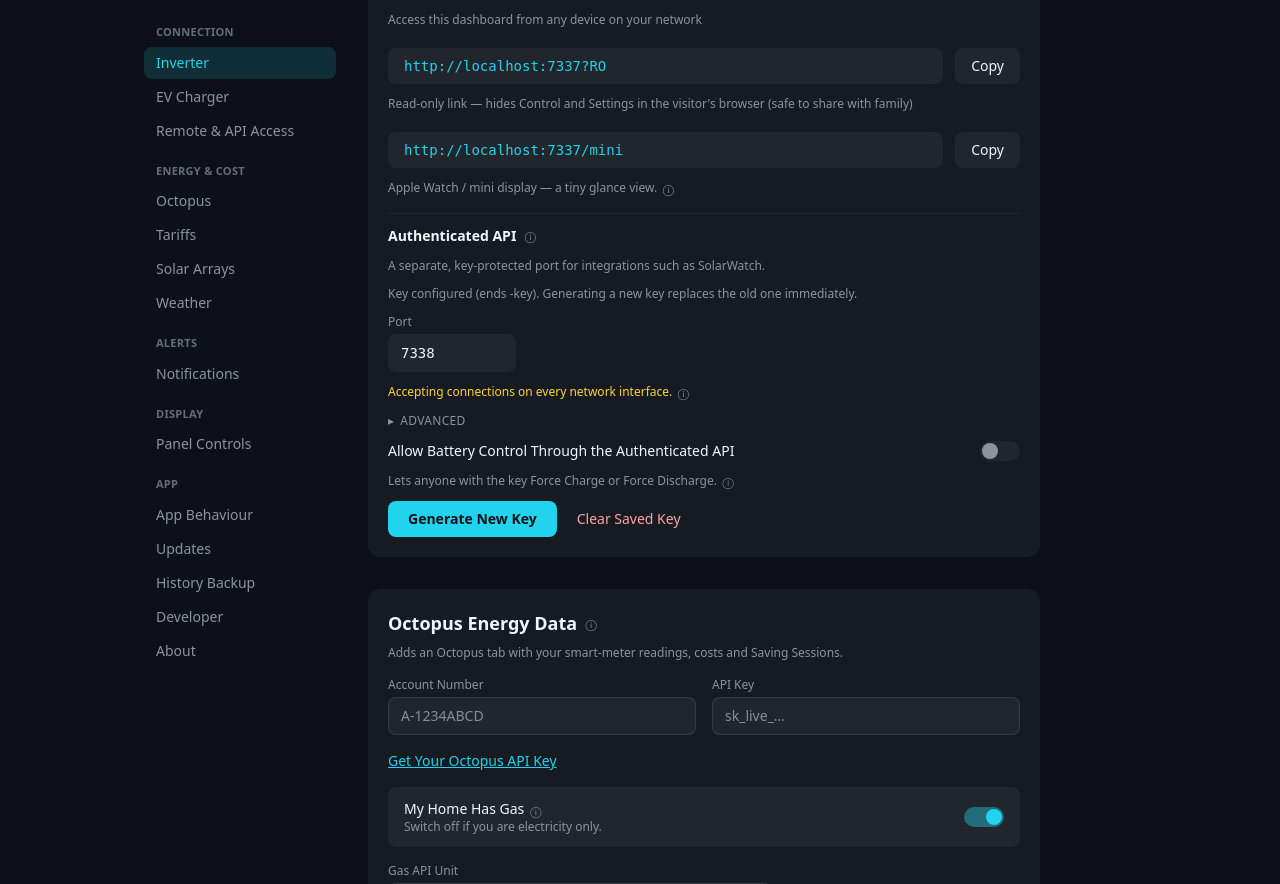
Test: <SettingsPage/> — save handlers & validation › authenticated API control permission toggle › persists immediately without touching a saved key or the port
(page scrolled)
Check: the text "ends -key" is shown, box top-left (388, 285), bottom-right (857, 302)
Click the switch named "Allow Battery Control Through the Authenticated API". click: (1000, 451)
box: top-left (980, 441), bottom-right (1020, 461)
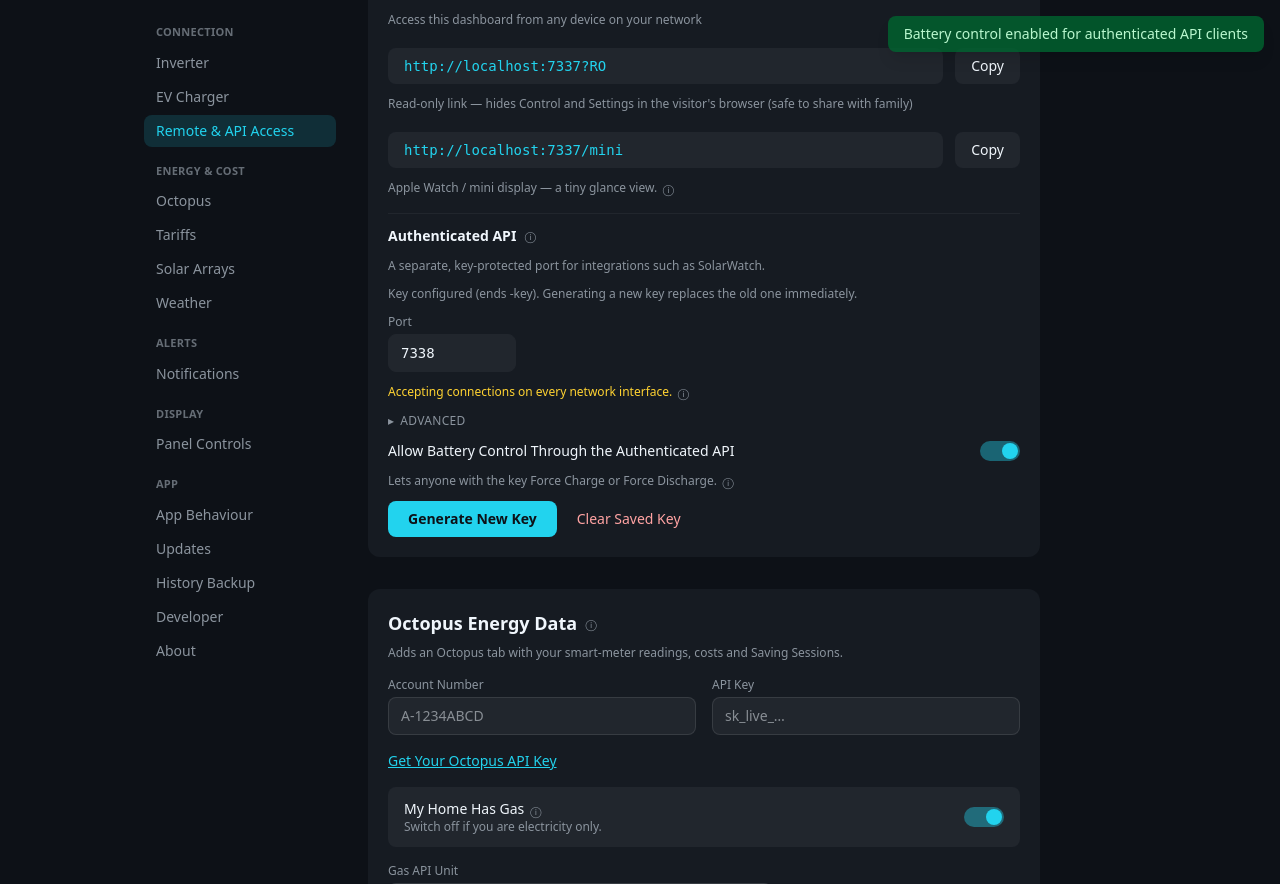
Check: the text "Battery control enabled for authenticated API clients" is shown, box top-left (888, 16), bottom-right (1264, 52)
